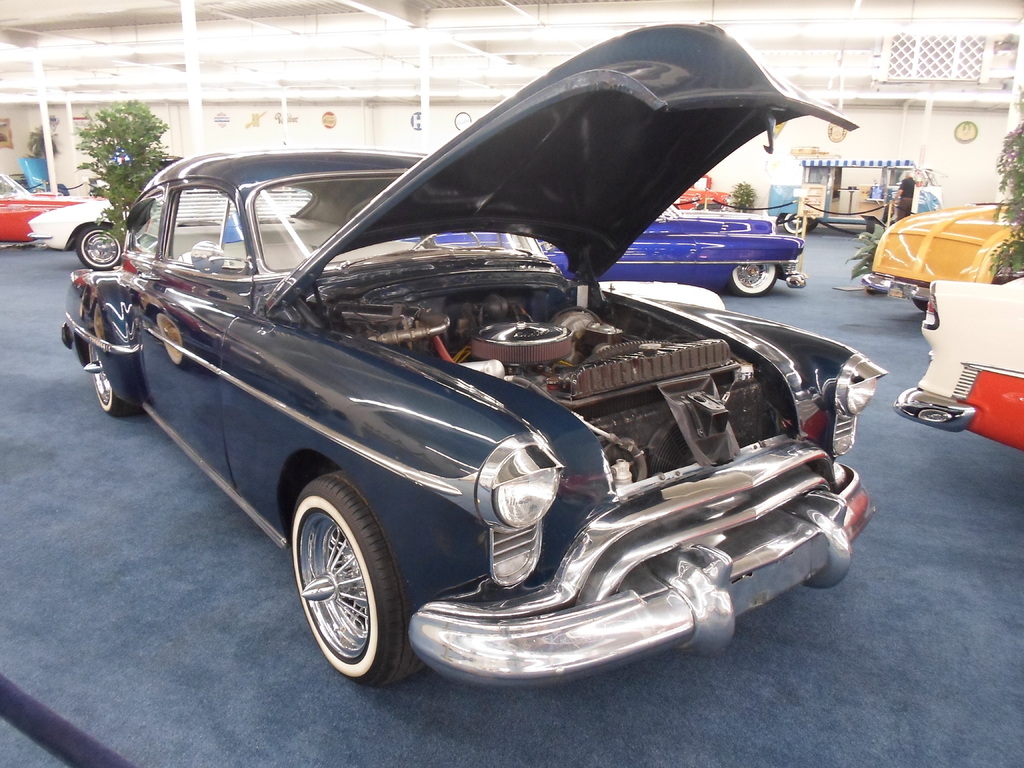Car: (73, 69, 880, 708), (414, 202, 800, 292), (896, 275, 1023, 455), (875, 200, 1023, 313), (23, 192, 138, 272), (0, 172, 113, 250), (683, 181, 727, 219)
